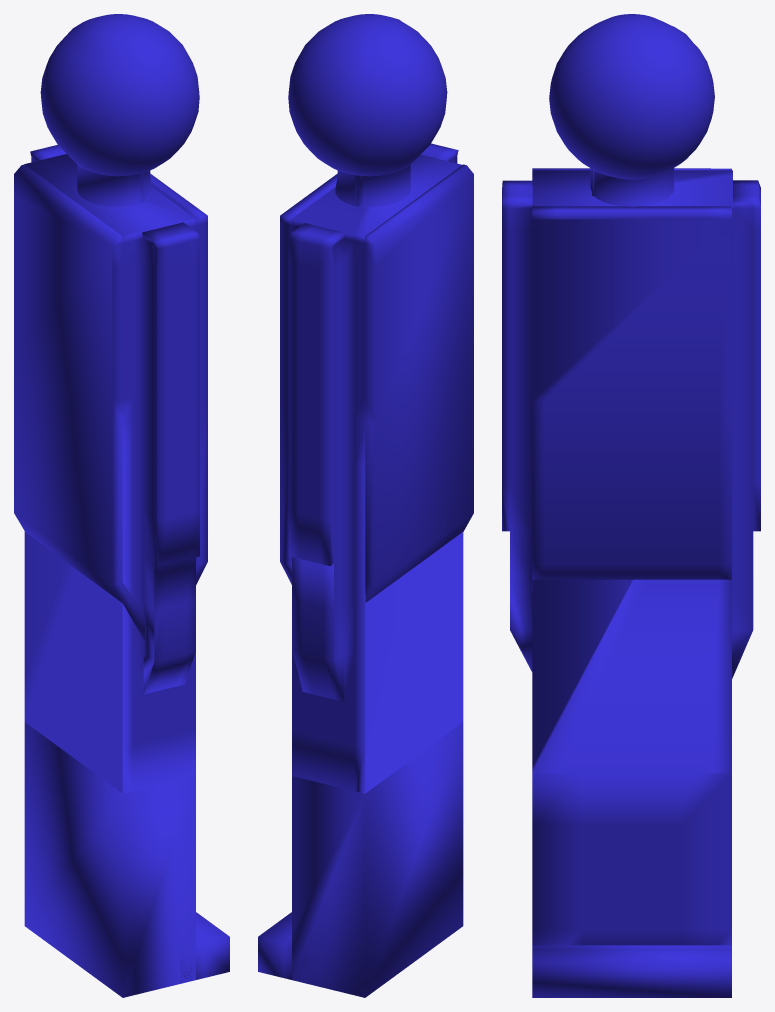
Rendered from Human Model.fbx.
3 renders of one model, left to right at view 1: azimuth 30°, elevation 25°; view 2: azimuth 150°, elevation 25°; view 3: azimuth 270°, elevation 25°, orthographic.
Parts seen in each view (by area): view 1: Sphere; view 2: Sphere; view 3: Sphere.
Part boxes in pixels (x1,y1,x2,y2): Sphere: (14,14,229,997); Sphere: (258,14,473,997); Sphere: (502,14,760,997).
Bounding box in the file's own units: 0.4656 × 3 × 0.744.
